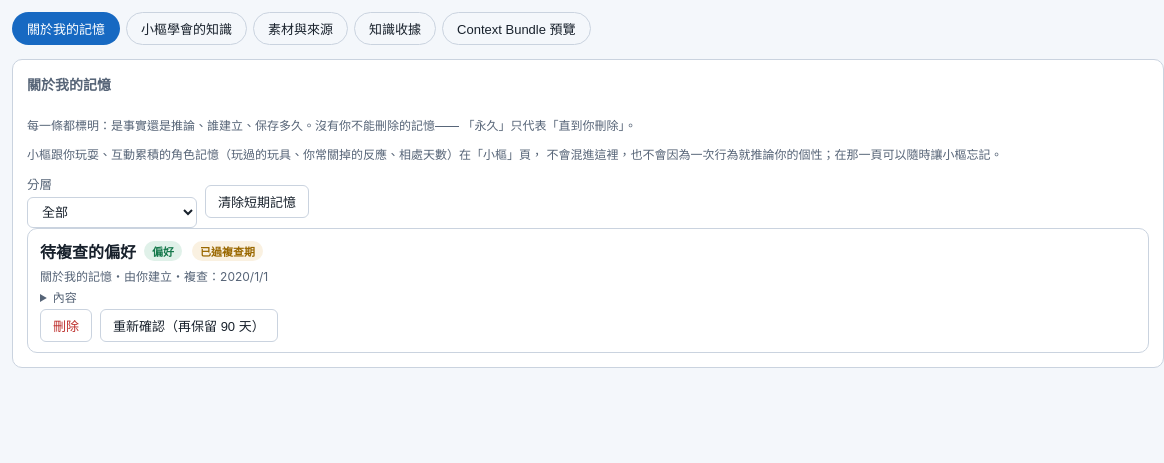
已到期的記憶不假裝救得回來 › 已過複查期（stale）仍可重新確認，而且失敗要看得見，不得靜默
Click the button "重新確認（再保留 90 天）" at (189, 326), box [100, 309, 278, 342]
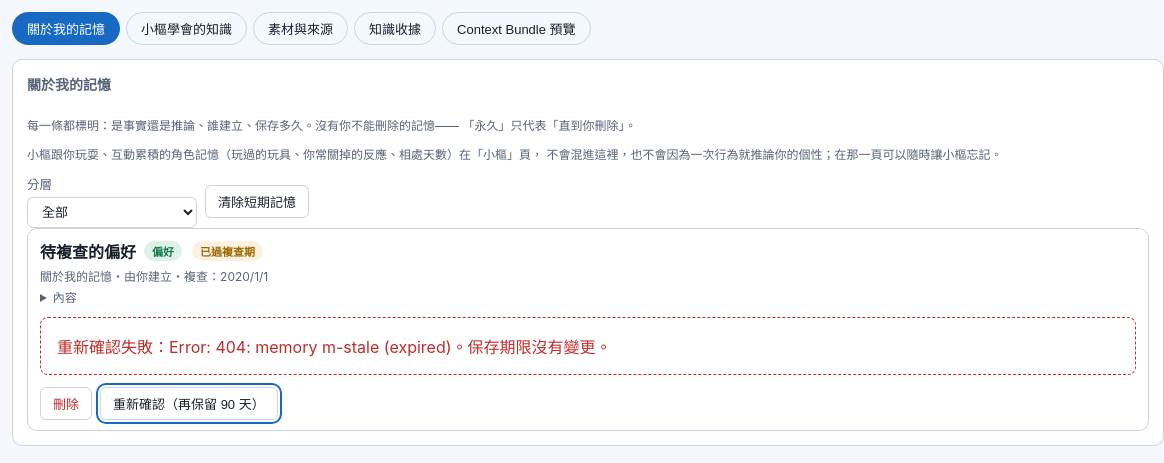
Result: the text "重新確認失敗：Error: 404: memory m-stale (expired)。保存期限沒有變更。" is shown at [40, 317, 1136, 375]
Result: the text "待複查的偏好" shows "保存期限沒有變更" at [57, 337, 612, 357]
